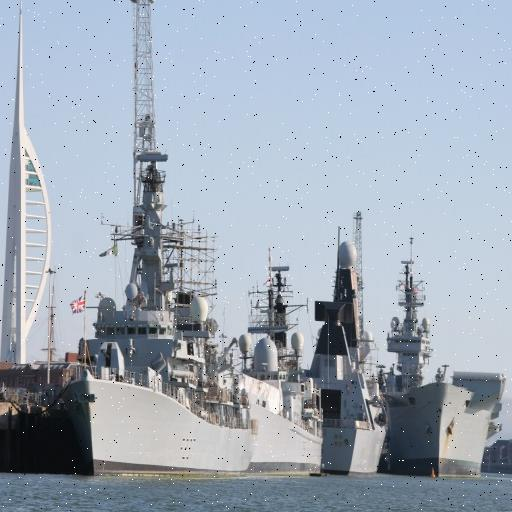Portanaves: (371, 233, 510, 482)
